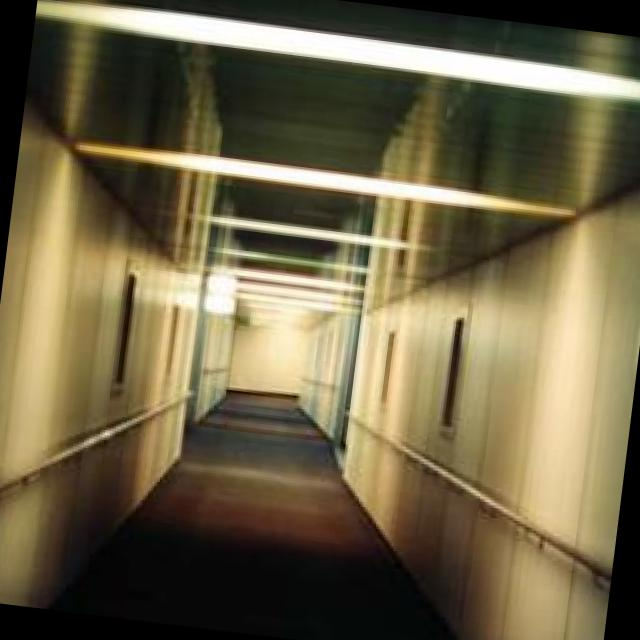ceiling beam: (26, 0, 640, 331)
ceiling vent: (37, 0, 640, 102), (70, 138, 578, 220)
cove: (435, 316, 476, 442), (107, 256, 143, 395)
floor -X: (43, 392, 462, 640)
hand rail: (0, 387, 195, 498)
handrail: (346, 412, 610, 592)
wall clock: (342, 183, 640, 640), (0, 113, 202, 605), (298, 319, 350, 435), (229, 327, 303, 393)
